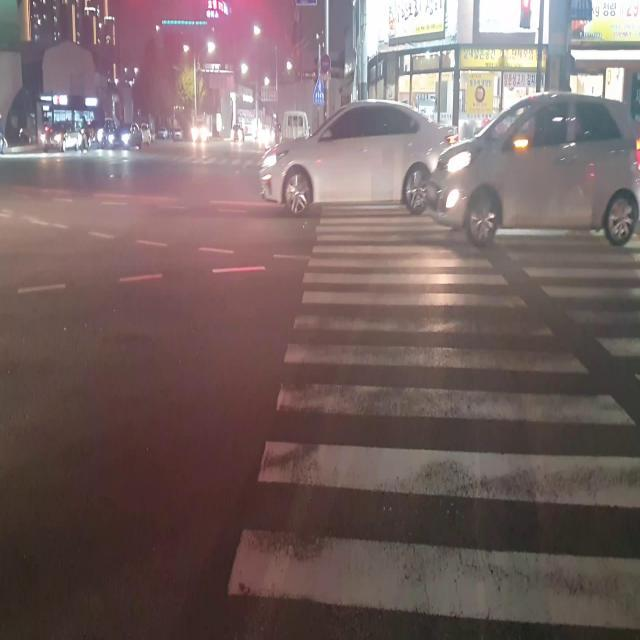crosswalk: (218, 203, 640, 636), (11, 150, 262, 168)
